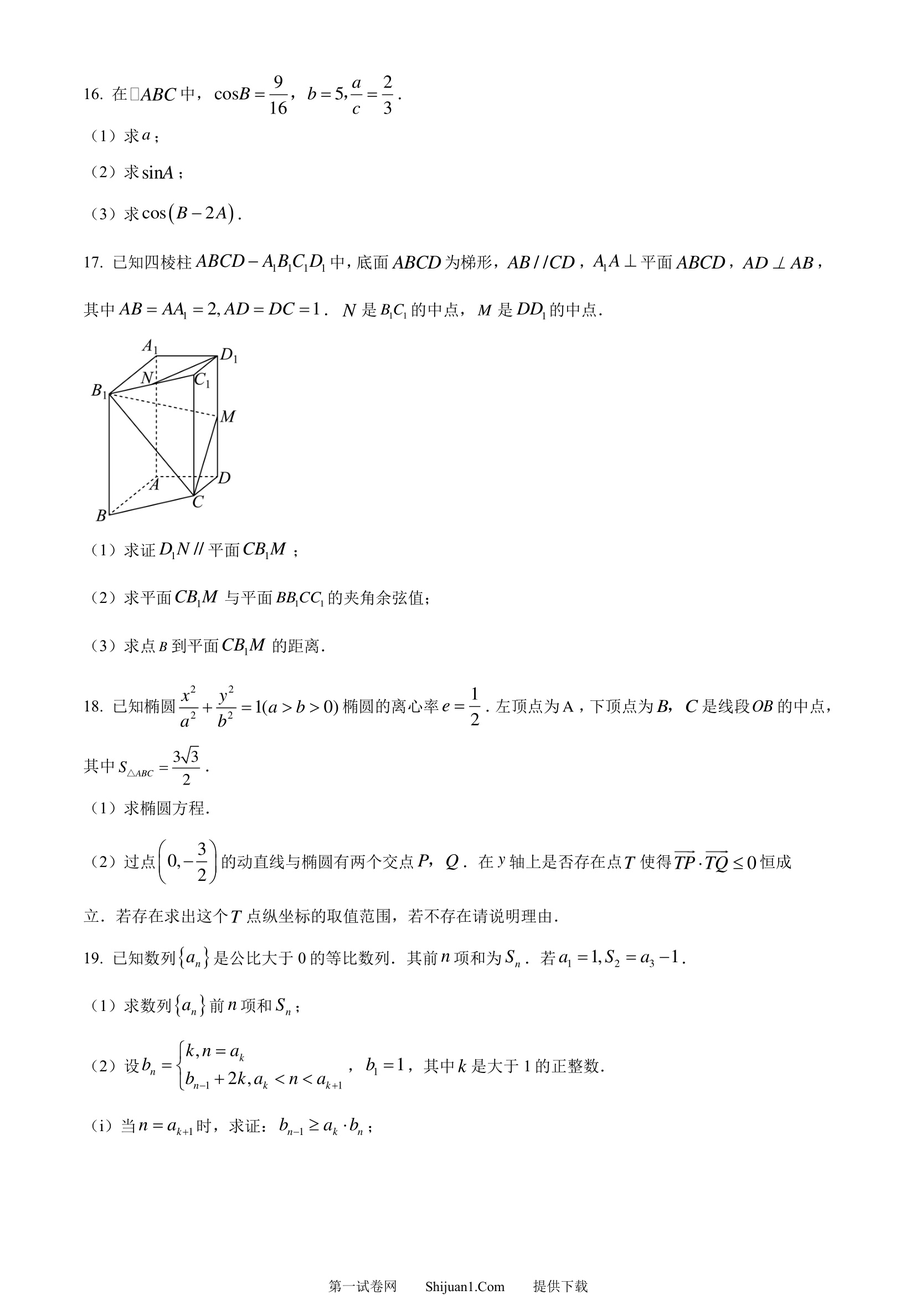question: (75, 227, 882, 670), (70, 670, 858, 940), (73, 940, 708, 1161), (73, 76, 439, 227)
